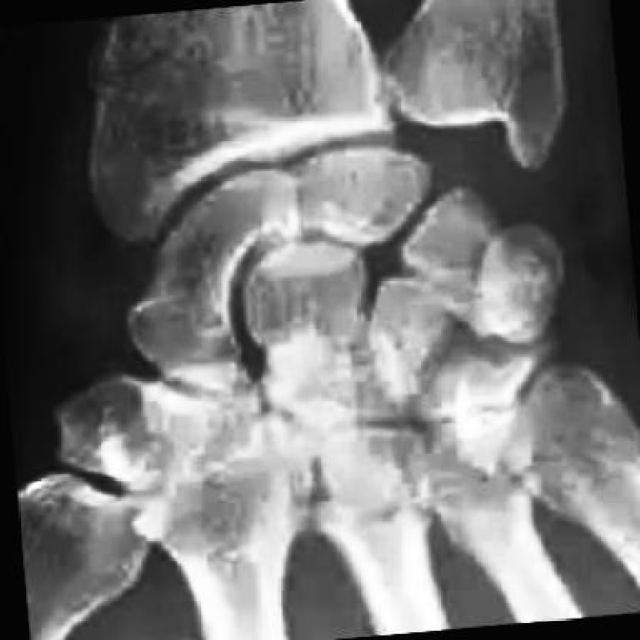Fracture: (435, 349, 563, 491)
